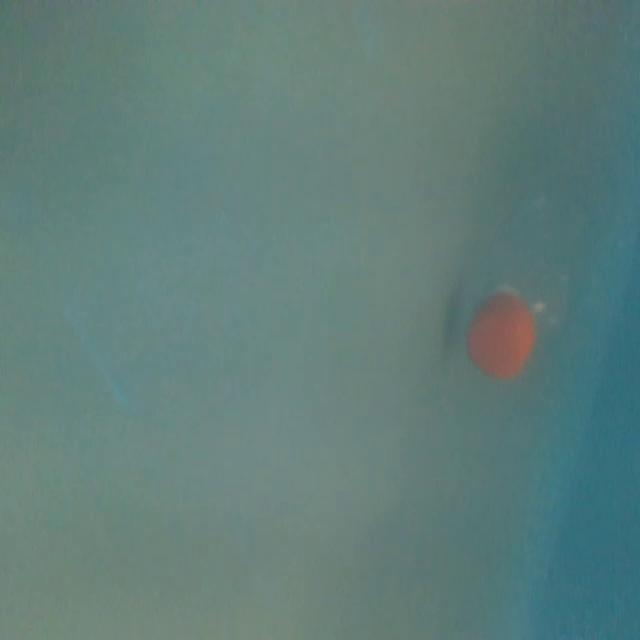plastic bottle: (454, 122, 625, 396)
